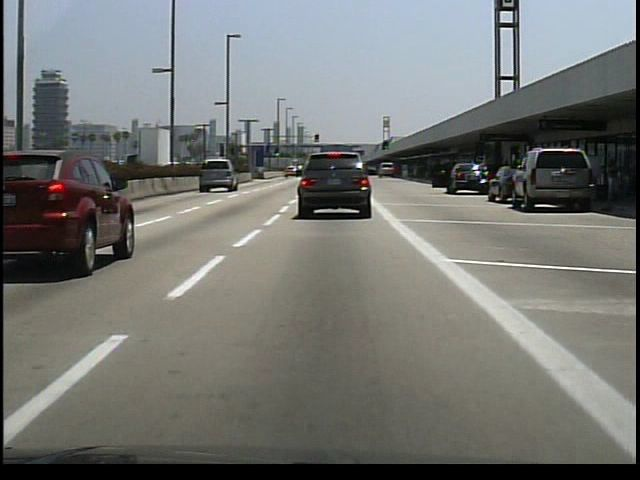person: (602, 154, 622, 207)
